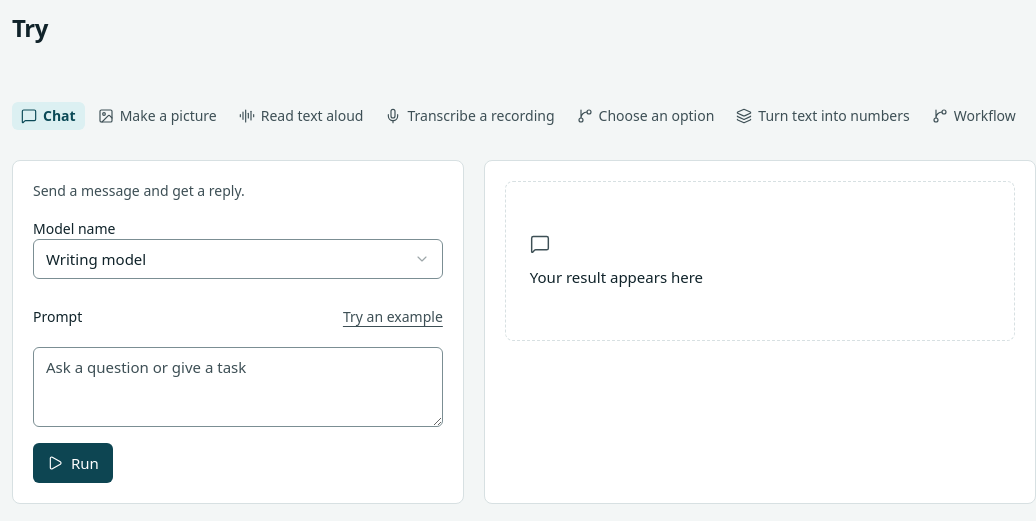
Scenario: Chat starts on an ordinary chat model, with an empty prompt › says what is missing instead of sending an empty prompt, and mints no key
Expected: the dropdown labelled "model" reads "Writing model", top-left (33, 239), bottom-right (443, 279)
Click the button "Run" at coordinates (73, 463), box top-left (33, 443), bottom-right (113, 483)
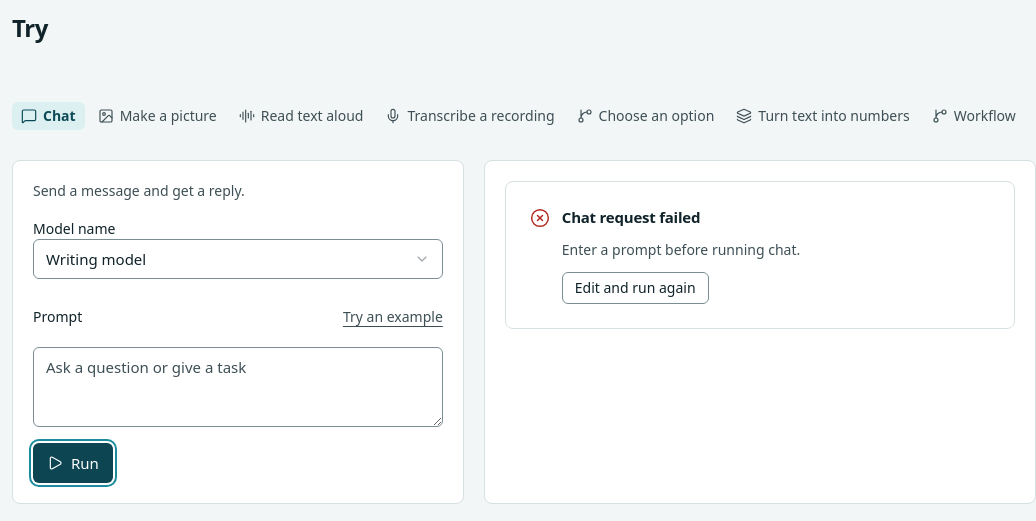
Expected: the text "Enter a prompt before running chat." is shown, top-left (562, 240), bottom-right (800, 259)
